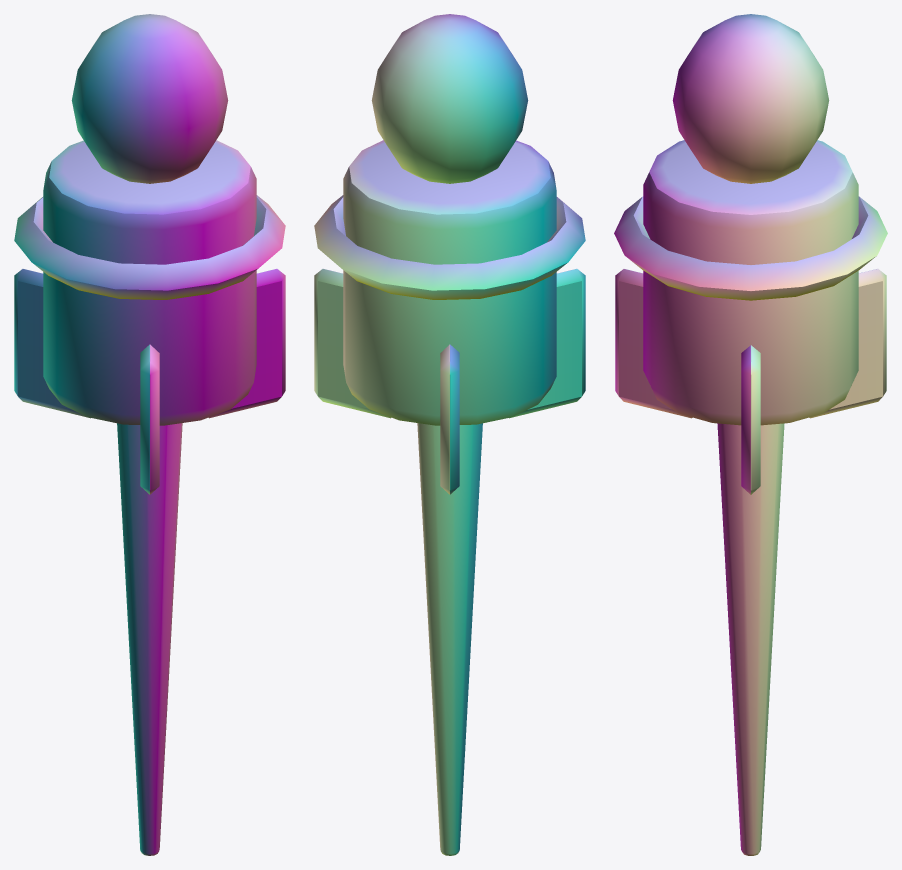
File: gad_beacon.glb
3 views of the same model, side by side, from view 1: azimuth 30°, elevation 25°; view 2: azimuth 150°, elevation 25°; view 3: azimuth 270°, elevation 25° (orthographic).
Parts seen in each view (by area): view 1: beacon; view 2: beacon; view 3: beacon.
Part boxes in pixels (x1,y1,x2,y2): beacon: (14,14,285,855); beacon: (314,14,585,855); beacon: (614,14,887,855).
Size of the model in its own units: 0.06 by 0.188 by 0.056.
